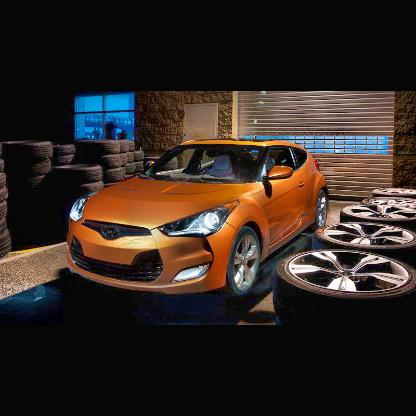Hyundai Veloster Hatchback 2012: (58, 128, 337, 308)
